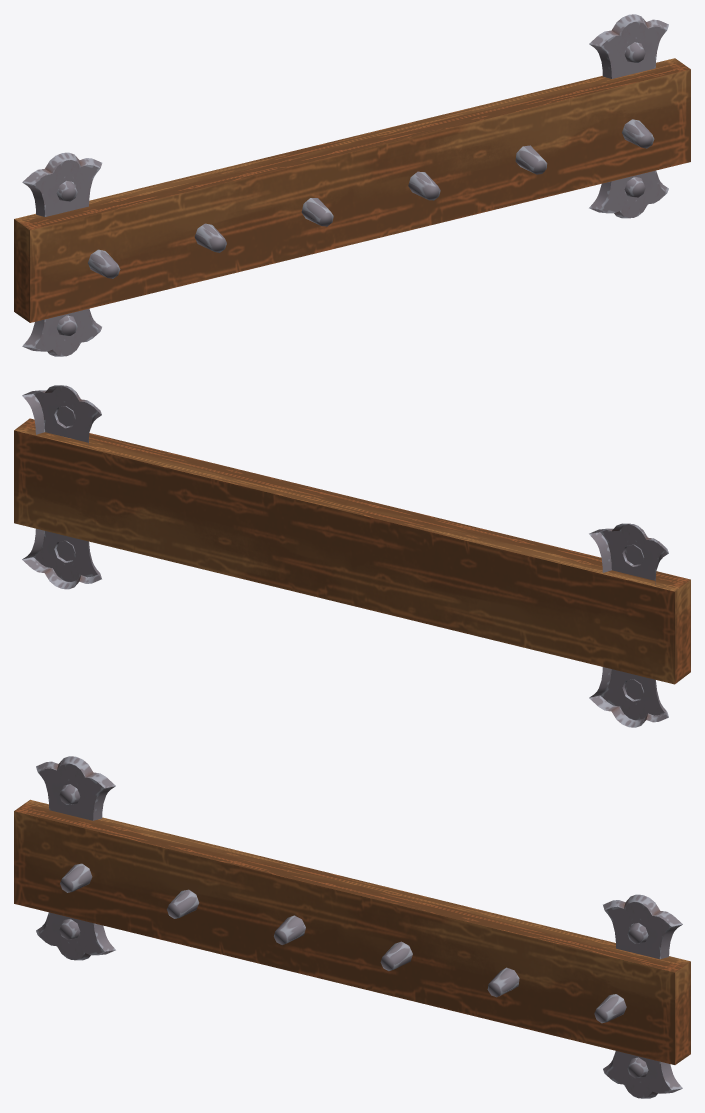
File: peg-rack.glb
3 views of the same model, one above another, from view 1: azimuth 30°, elevation 25°; view 2: azimuth 150°, elevation 25°; view 3: azimuth 330°, elevation 25° (orthographic).
Visible parts, largest first — view 1: Peg_Rack; view 2: Peg_Rack; view 3: Peg_Rack.
Part boxes in pixels (bbox=[...]): Peg_Rack: bbox=[14, 14, 690, 356]; Peg_Rack: bbox=[14, 385, 690, 727]; Peg_Rack: bbox=[14, 756, 690, 1098].
Size of the model in its own units: 1.18 by 0.3479 by 0.0957.
Materials: 2 (2 with a texture image).
